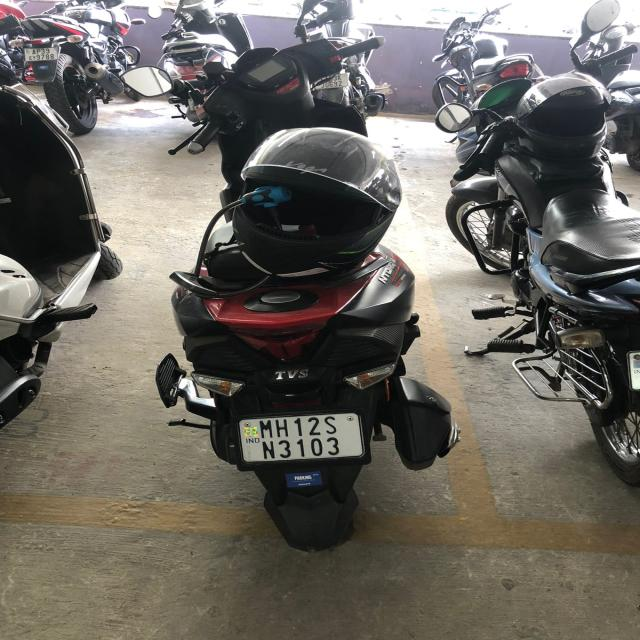license_plate: (235, 410, 366, 464)
